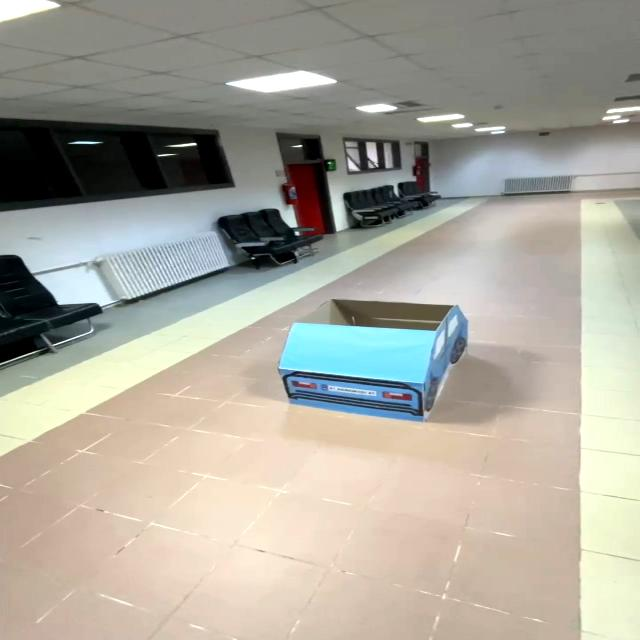blue_car: (263, 287, 501, 433)
